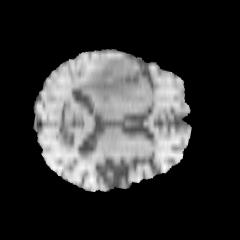glioma: (76, 58, 139, 103)
